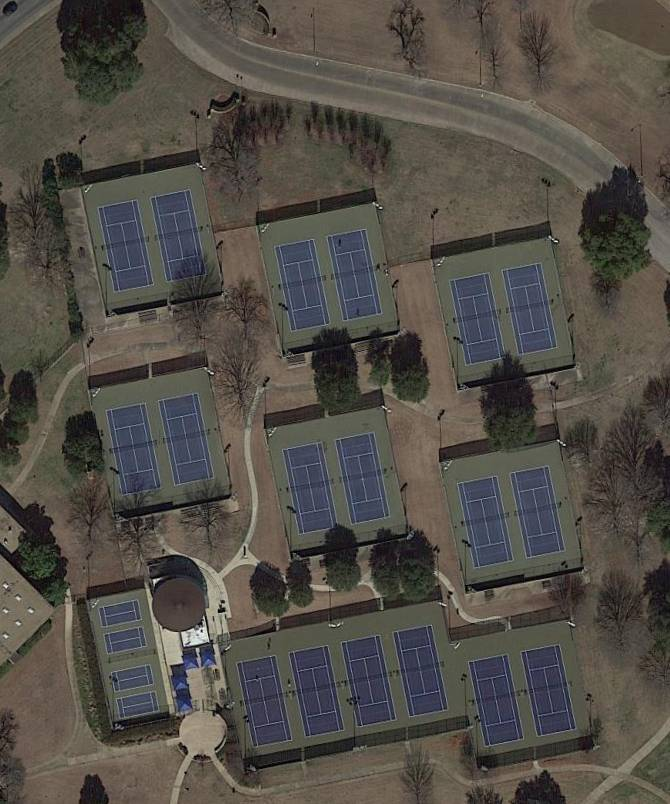tennis court: (507, 464, 568, 559), (391, 624, 452, 719), (156, 392, 216, 488), (104, 402, 164, 498), (339, 633, 399, 729), (96, 199, 156, 295), (273, 238, 333, 333), (449, 272, 509, 367), (500, 262, 560, 357), (287, 645, 347, 740), (457, 474, 516, 570), (467, 653, 526, 749), (235, 654, 294, 750), (519, 644, 579, 738), (149, 189, 208, 284), (325, 228, 384, 323), (281, 441, 340, 536), (334, 431, 392, 527), (103, 625, 149, 656), (110, 663, 155, 694), (97, 599, 143, 629), (115, 691, 160, 721)
